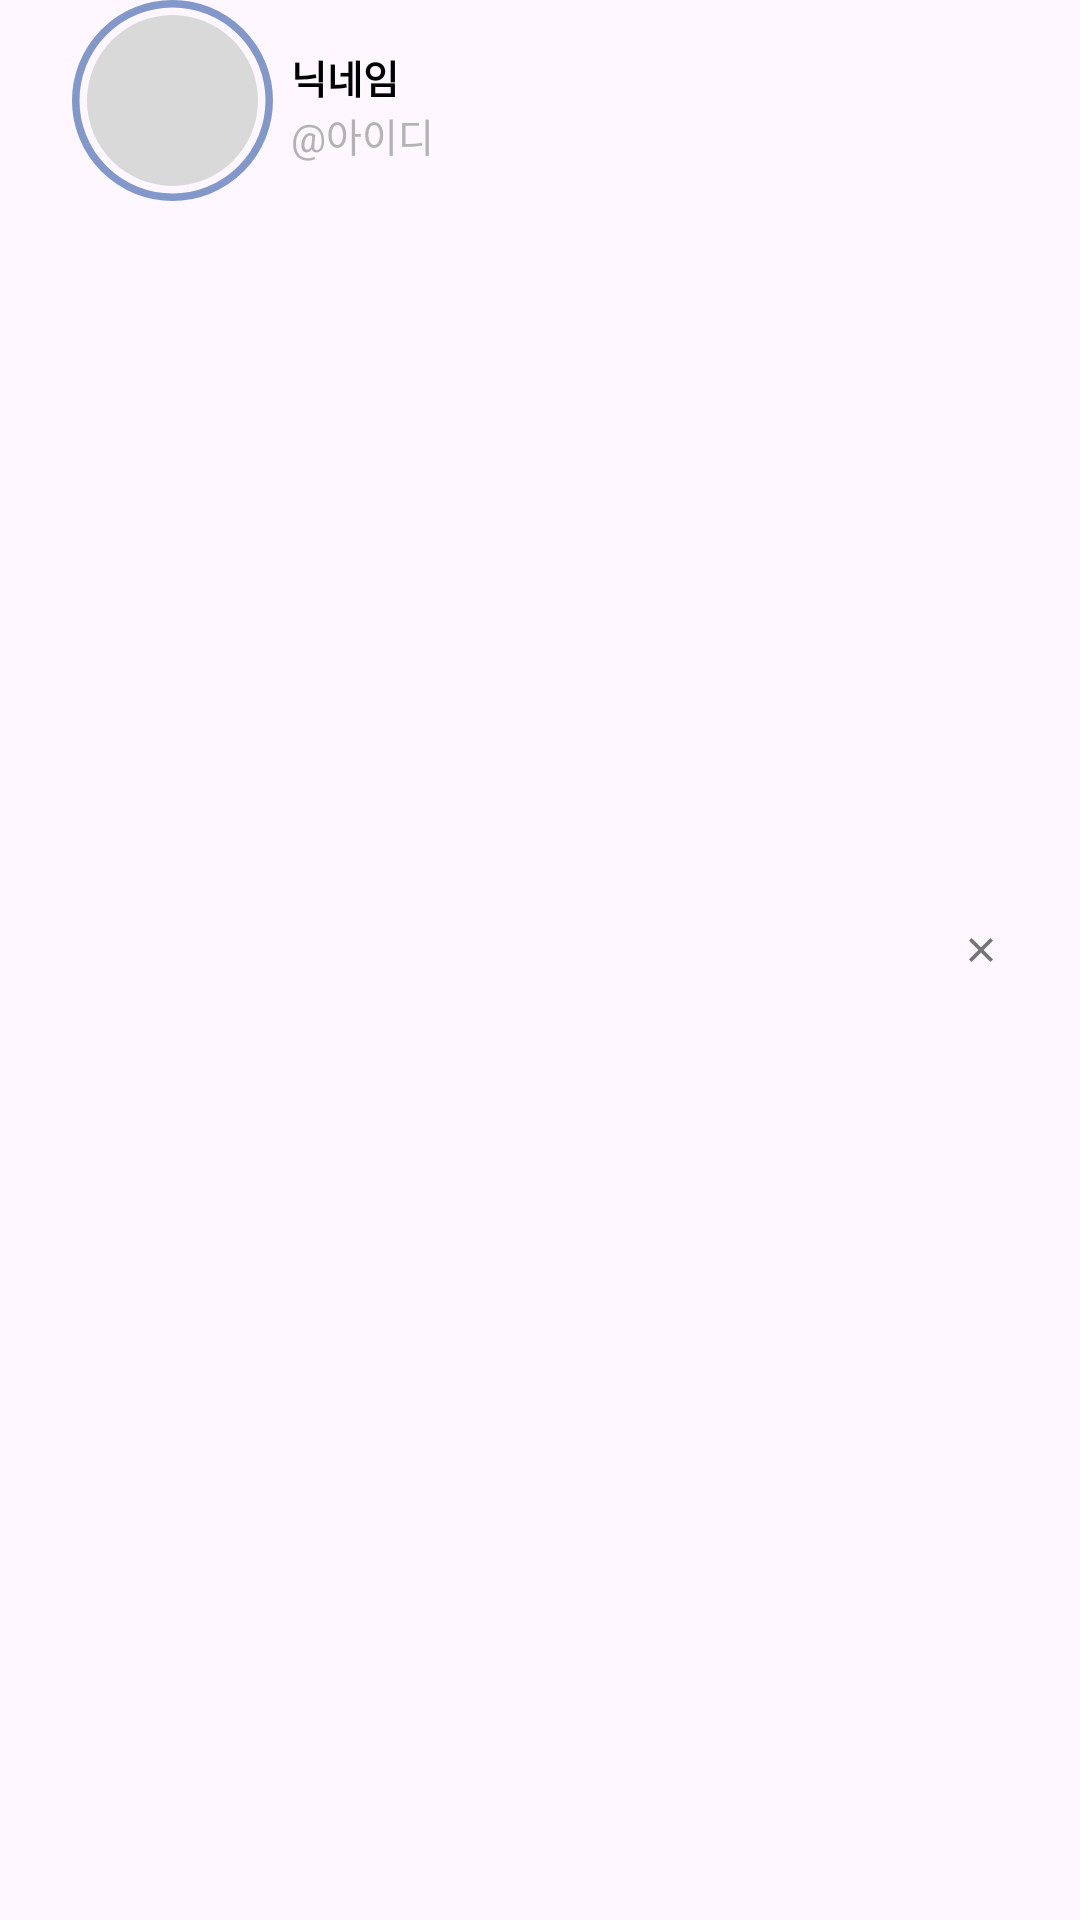

Named icons in this screenshot (1080*1920) and their centers, (x,y):
close: (981,950)
